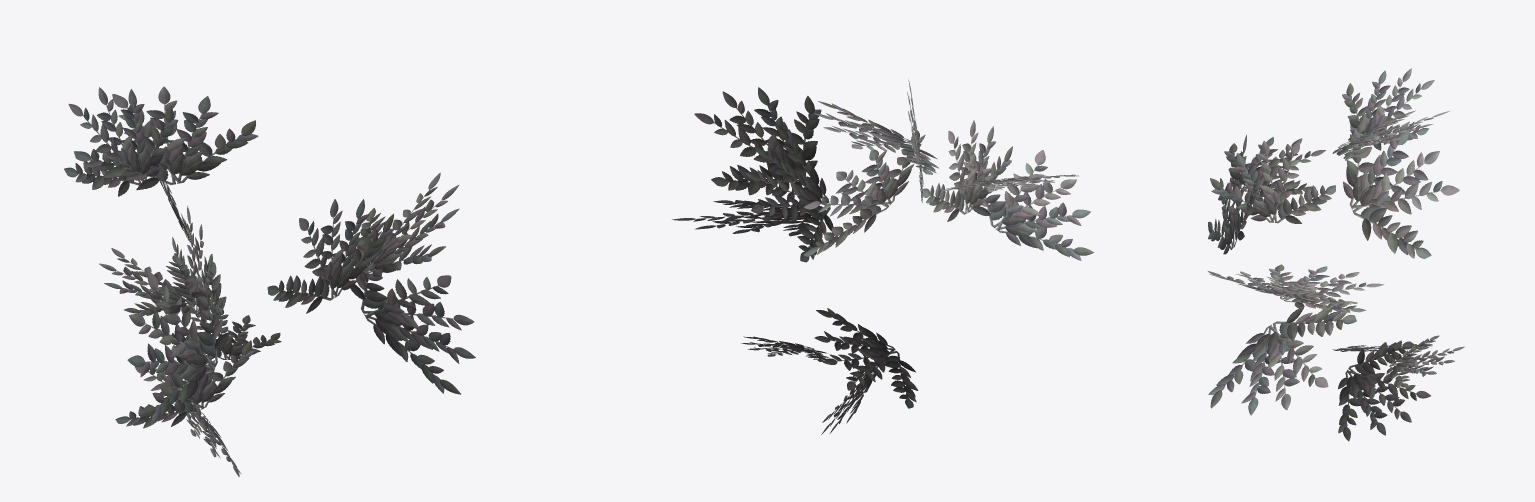
The model's file is sapling_l2.gltf.
3 renders of one model, left to right at view 1: azimuth 30°, elevation 25°; view 2: azimuth 150°, elevation 25°; view 3: azimuth 270°, elevation 25°, orthographic. The views are drawn at different scales.
Visible parts, largest first — view 1: sapling_l2; view 2: sapling_l2; view 3: sapling_l2.
Part boxes in pixels (x1=…): sapling_l2: x1=64, y1=86, x2=475, y2=476; sapling_l2: x1=672, y1=78, x2=1093, y2=434; sapling_l2: x1=1208, y1=68, x2=1464, y2=441.
Size of the model in its own units: 5.05 by 4.67 by 3.2.
Materials: 1 (1 with a texture image).
